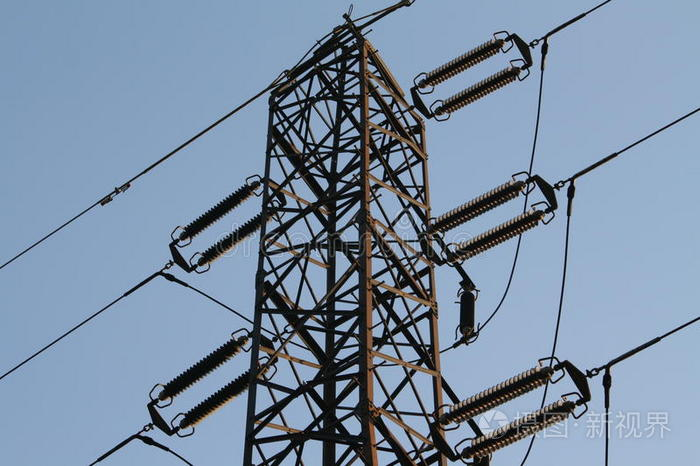insulator: (452, 358, 568, 456), (438, 180, 540, 258), (167, 337, 253, 426), (185, 182, 267, 267), (426, 41, 514, 114)
